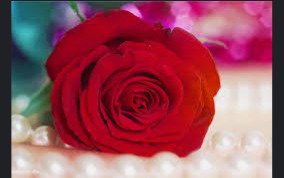RedRose: (50, 8, 216, 160)
